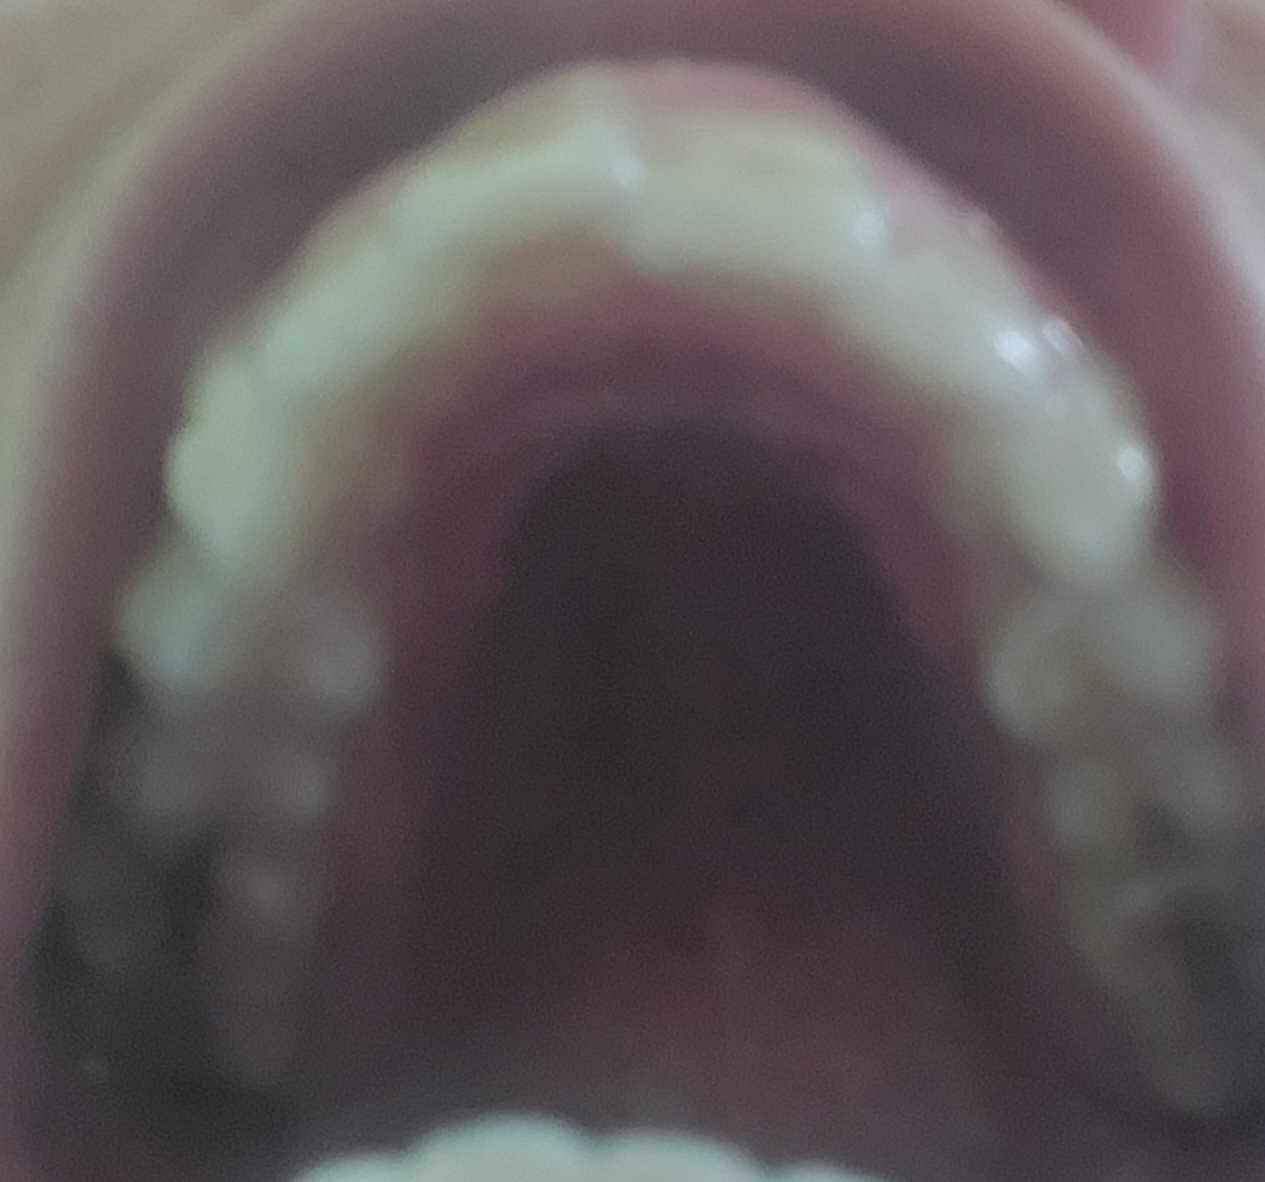teeth: (428, 87, 620, 298), (652, 122, 874, 270), (865, 232, 1046, 389)
